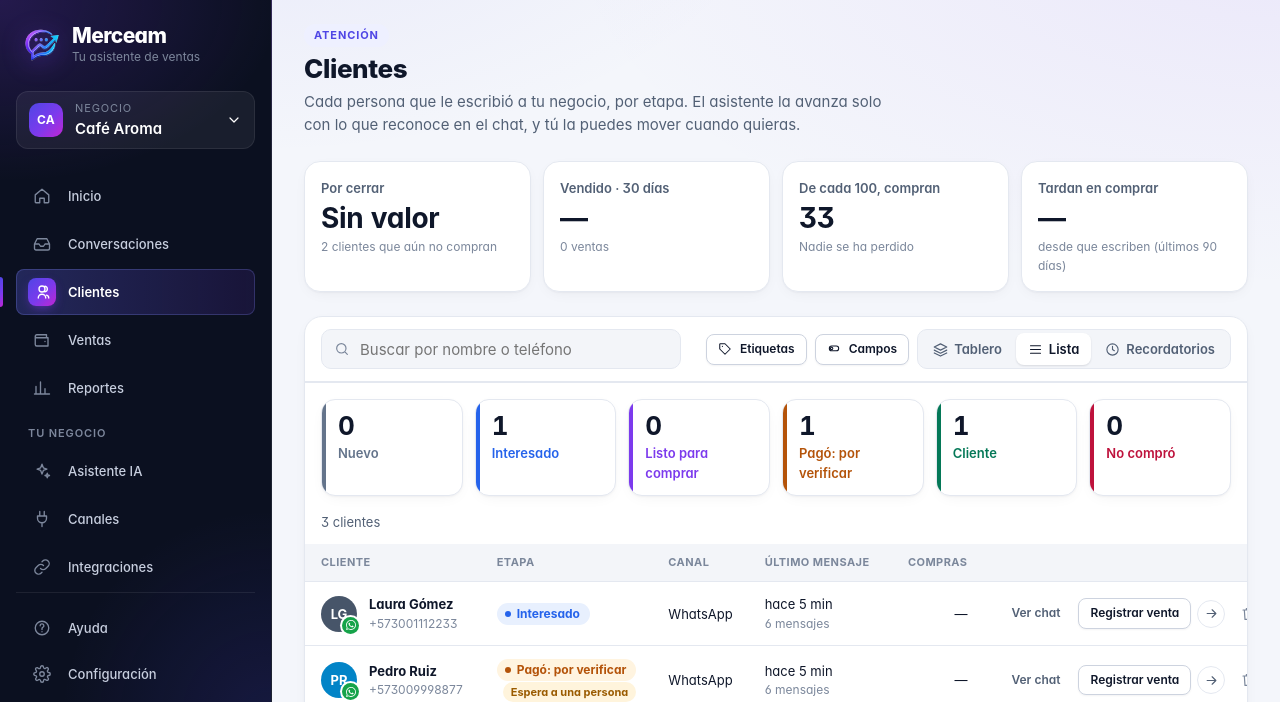
Test: Clientes › registra una venta desde un cliente de la lista y lo pasa a «Cliente»
The width and height of the screenshot is (1280, 702).
Expected: the heading "Clientes" is shown, top-left (304, 53), bottom-right (910, 84)
Step 1. Click the button "Registrar venta" in the row of "LG" → click(1135, 614), box top-left (1078, 598), bottom-right (1191, 629)
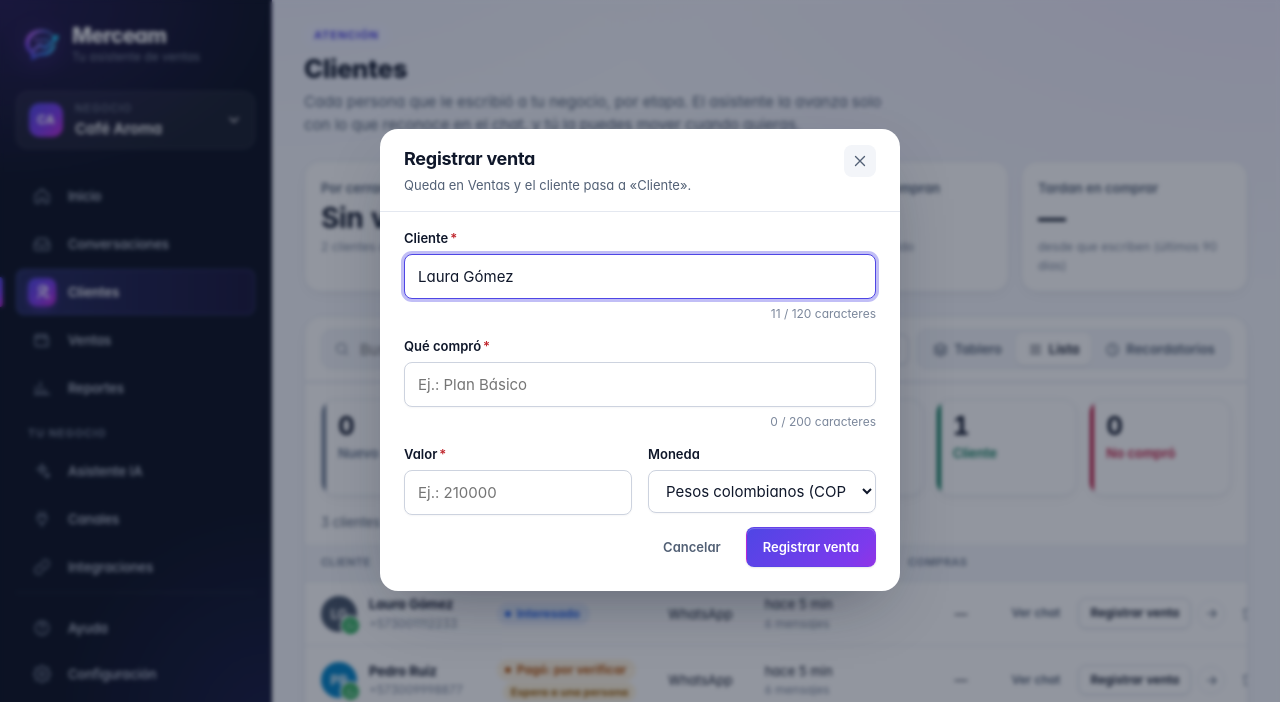
Expected: the field labelled "Cliente*" holds "Laura Gómez", top-left (404, 254), bottom-right (876, 299)
Step 2. Type "Plan Básico" into the field labelled "Qué compró*" → (640, 385), box top-left (404, 362), bottom-right (876, 407)
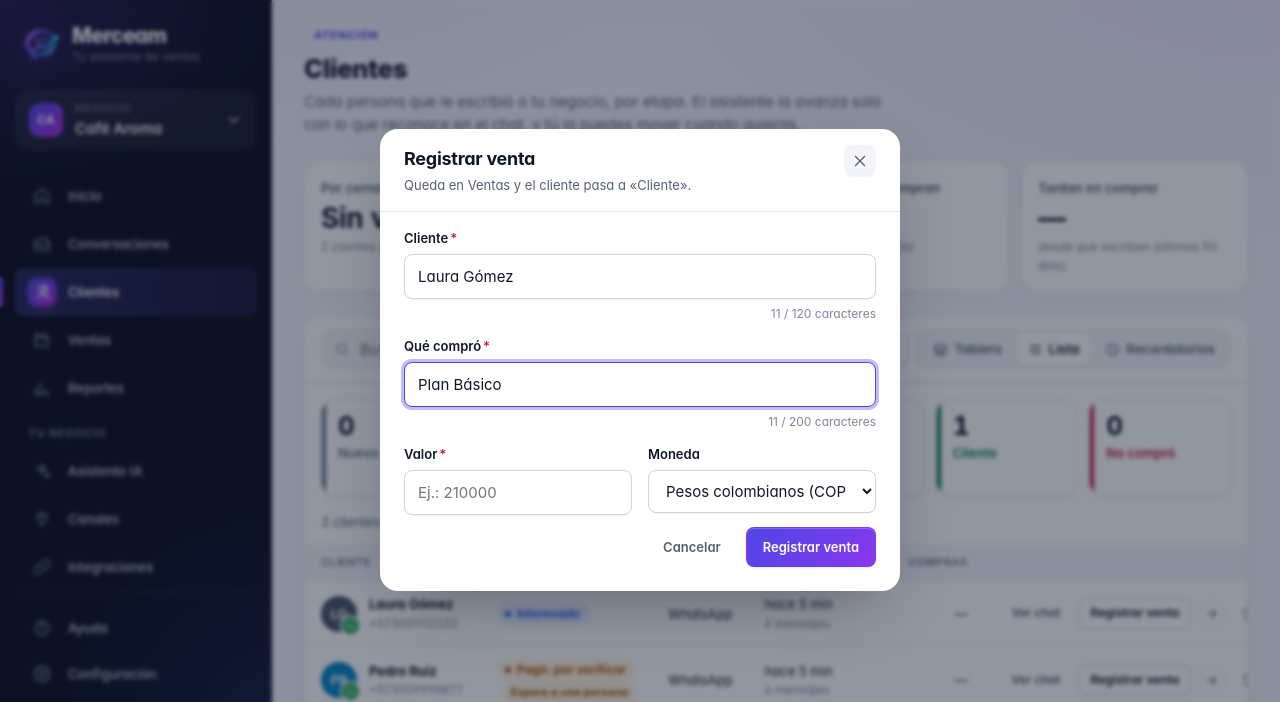
Step 3. Type "210.000" into the field labelled "Valor*" → (518, 493), box top-left (404, 470), bottom-right (632, 515)
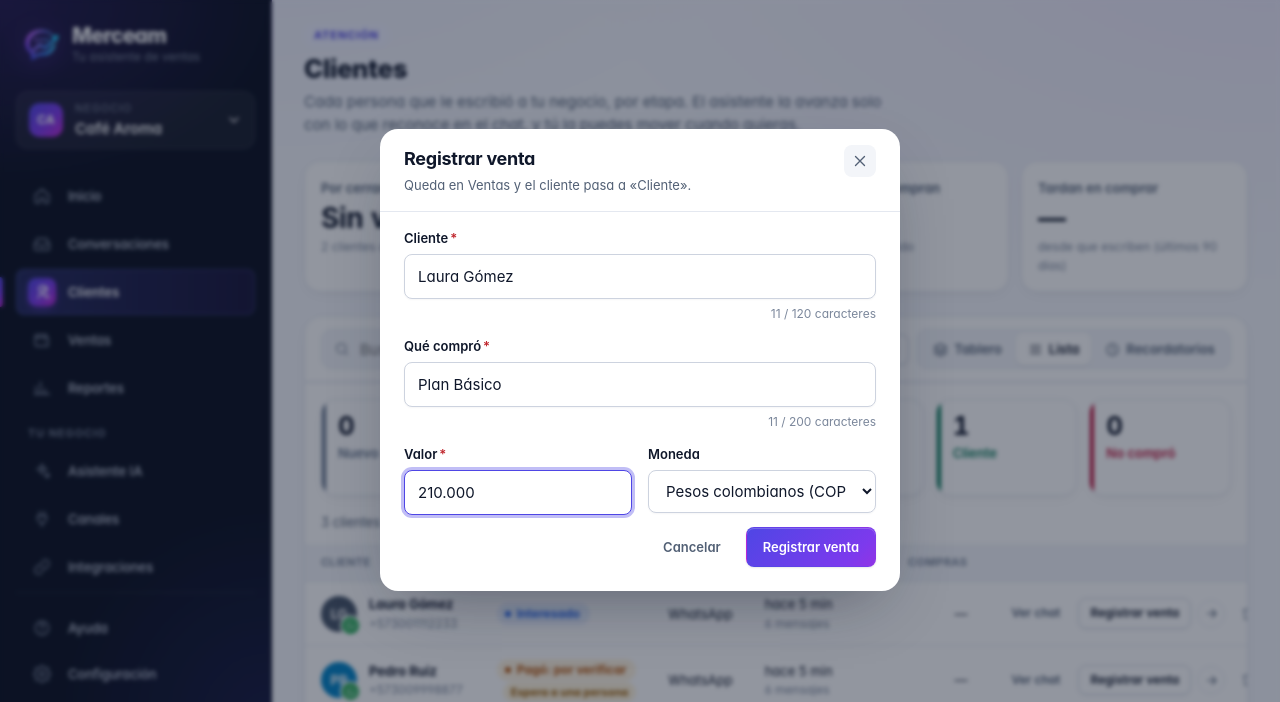
Step 4. Click the button "Registrar venta" → click(811, 547), box top-left (746, 527), bottom-right (876, 567)
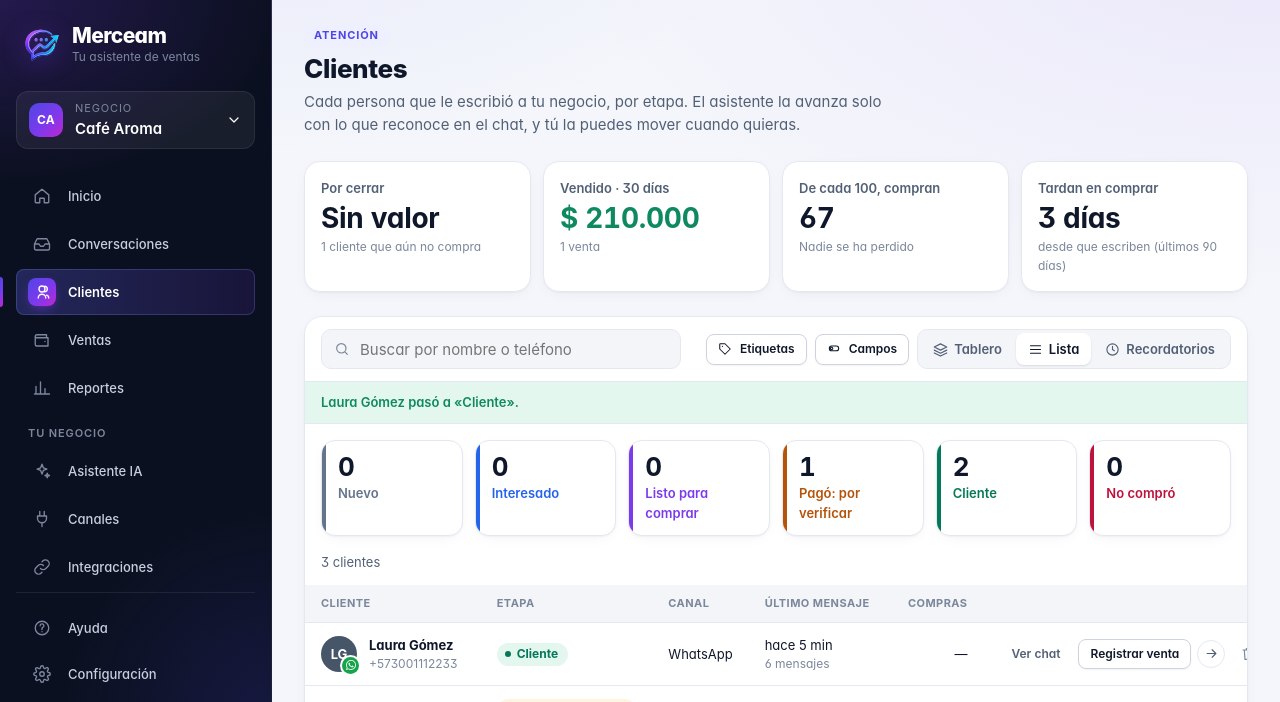
Expected: the dialog is gone
Expected: the text "Cliente" in the row of "LG" is shown, top-left (517, 646), bottom-right (558, 661)
